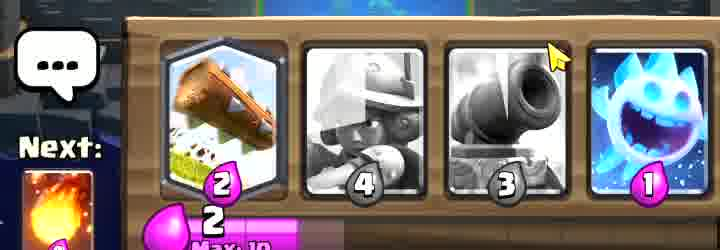cannon: (471, 56, 571, 195), (447, 57, 529, 180)
fireball: (25, 172, 92, 250)
ice-spirit: (588, 49, 705, 201)
log: (169, 43, 280, 183)
